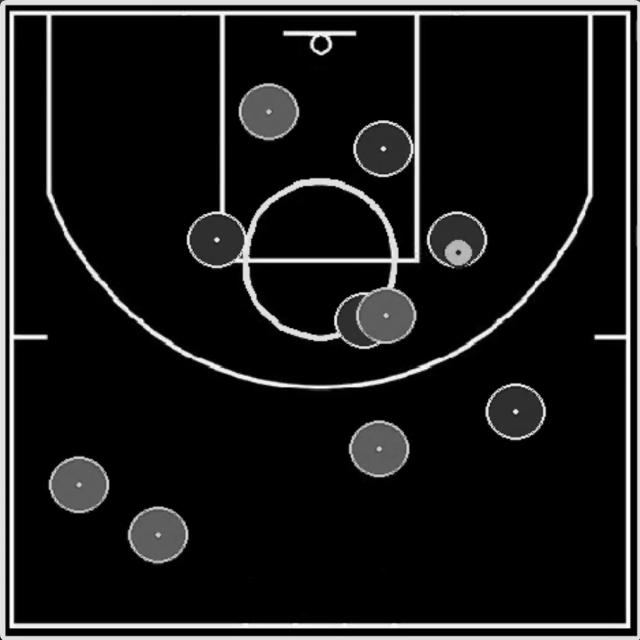Basketball: (443, 238, 475, 267)
Team_A: (427, 211, 487, 270), (353, 120, 414, 178), (186, 211, 246, 269), (333, 290, 393, 348), (486, 384, 545, 440)
Team_B: (349, 420, 410, 478), (128, 506, 189, 564), (49, 456, 109, 514), (238, 84, 299, 141), (358, 288, 416, 344)
